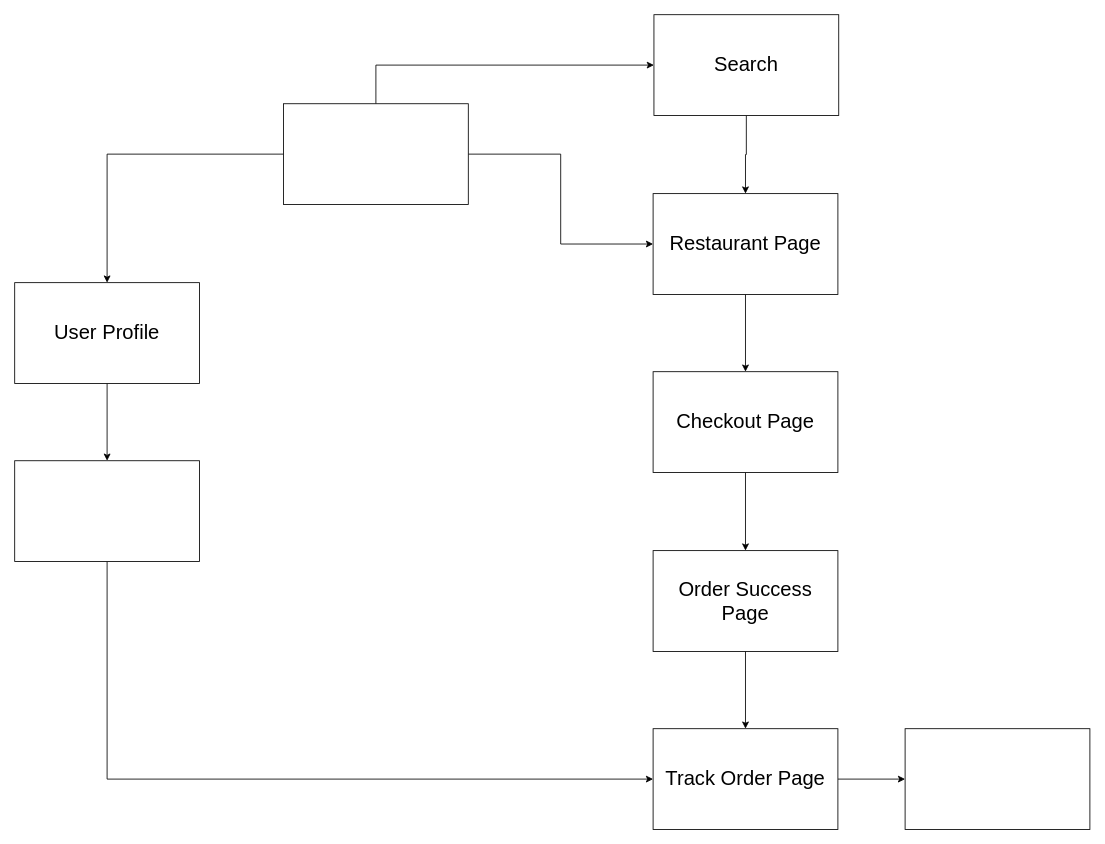
This 1105x844 diagram has some shape labels left out. Here are the shapes that lost their labels. From the top down, the centre of each, then its label:
At point (375, 154): "Home Page".
At point (107, 511): "Order History".
At point (997, 779): "Support (Sales IQ)".
